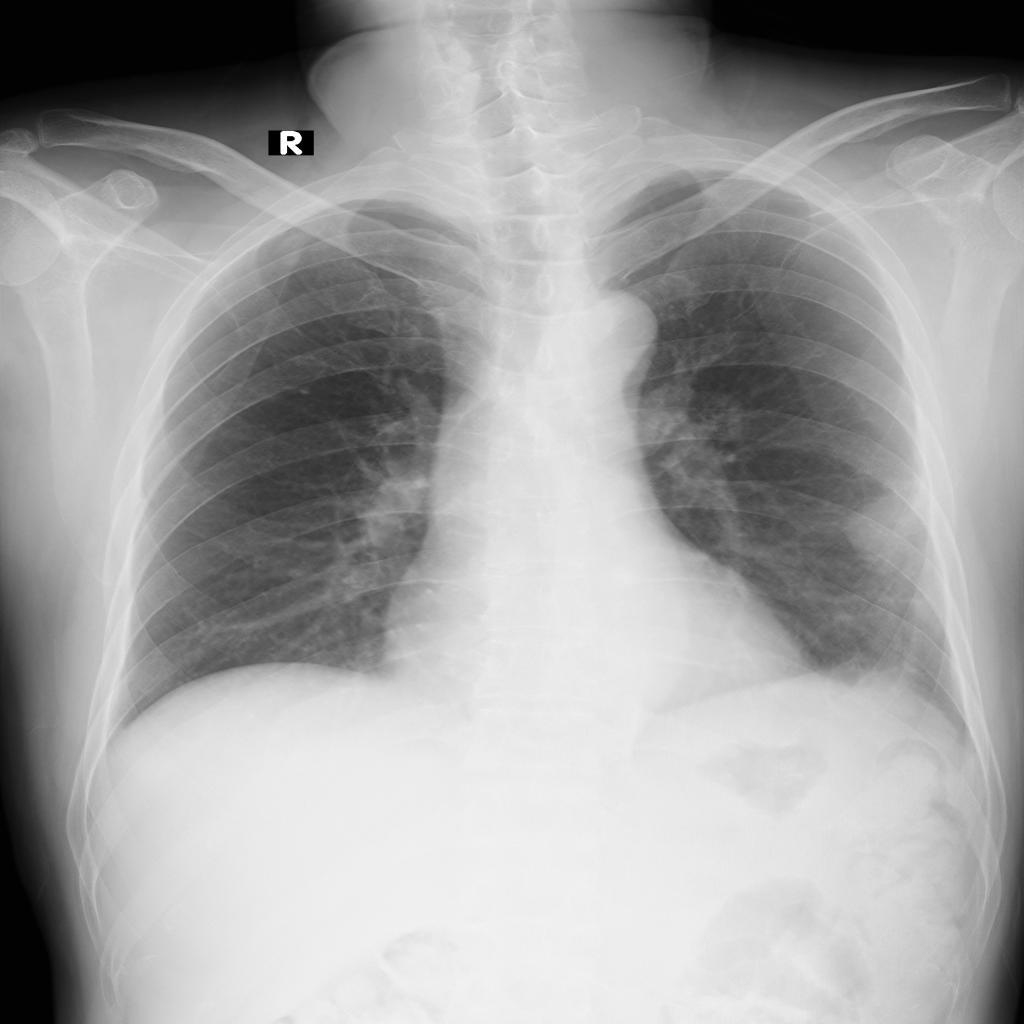Nodule: (834, 477, 930, 575)
